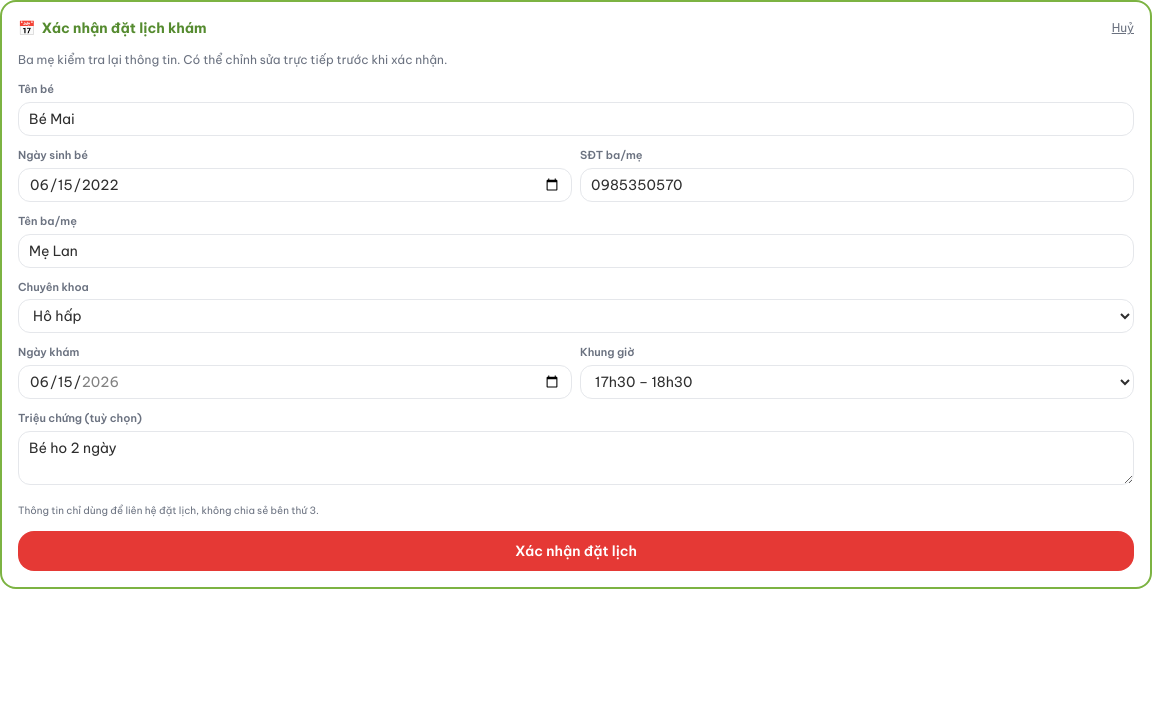
it: BookingConfirmCard › hiện error khi server trả 400 với fieldErrors
Step 1. Click the button "Xác nhận đặt lịch" → click(576, 551), box [18,531,1134,571]
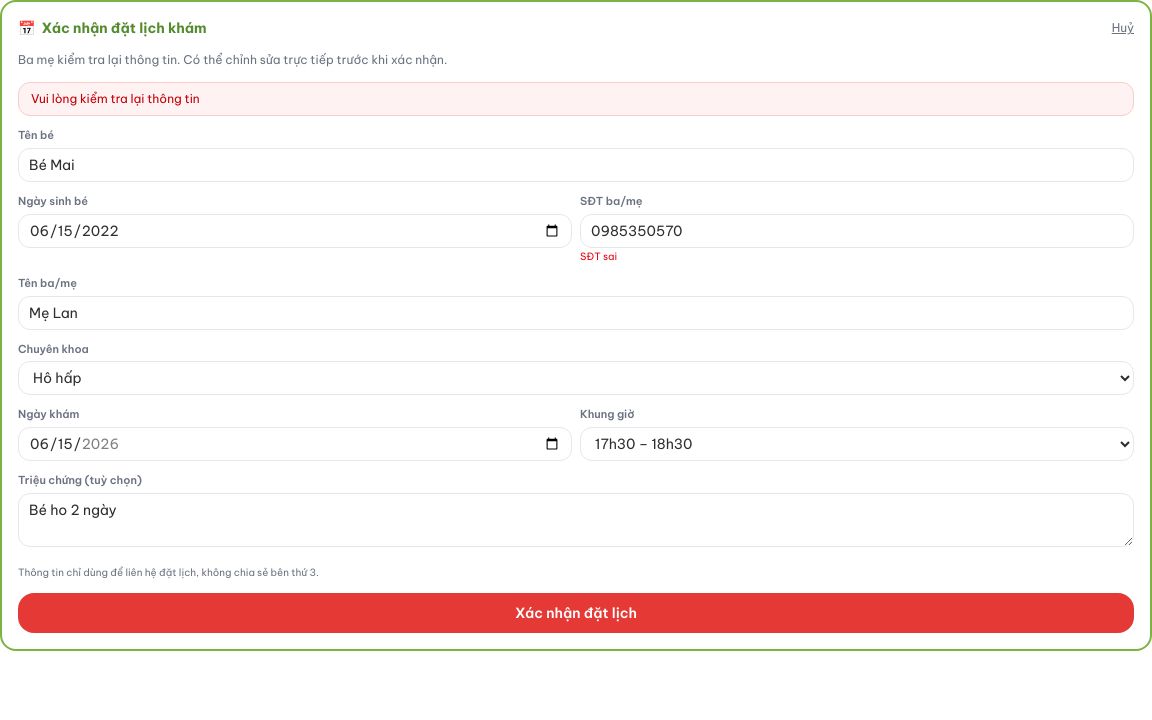
Expected: the message "Vui lòng kiểm tra lại thông tin" is shown, [18,82,1134,116]
Expected: the message shows "kiểm tra lại", [31,91,200,106]
Expected: the text "SĐT sai" is shown, [580,250,617,263]
